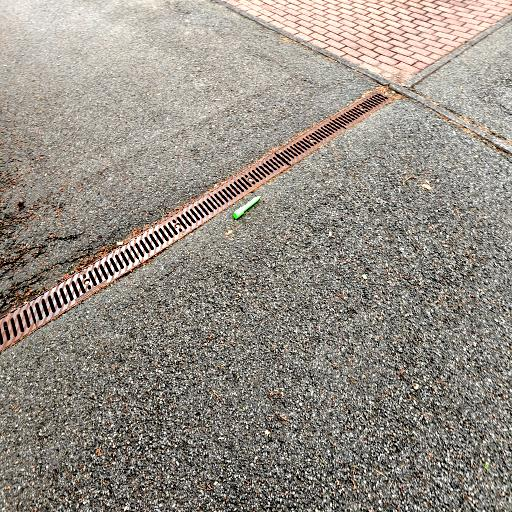Probe-Detection: (233, 196, 260, 219)
